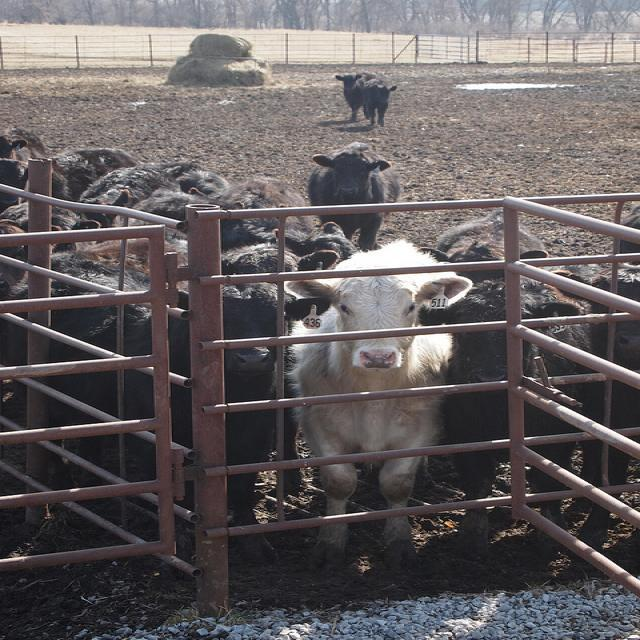cow: (4, 252, 329, 561), (282, 235, 470, 565), (420, 263, 639, 487), (213, 176, 356, 255), (304, 138, 396, 248), (0, 199, 97, 294), (51, 147, 201, 203), (111, 187, 247, 240), (81, 164, 232, 211), (0, 125, 47, 206), (419, 244, 504, 287), (221, 243, 339, 273), (335, 70, 393, 126)
